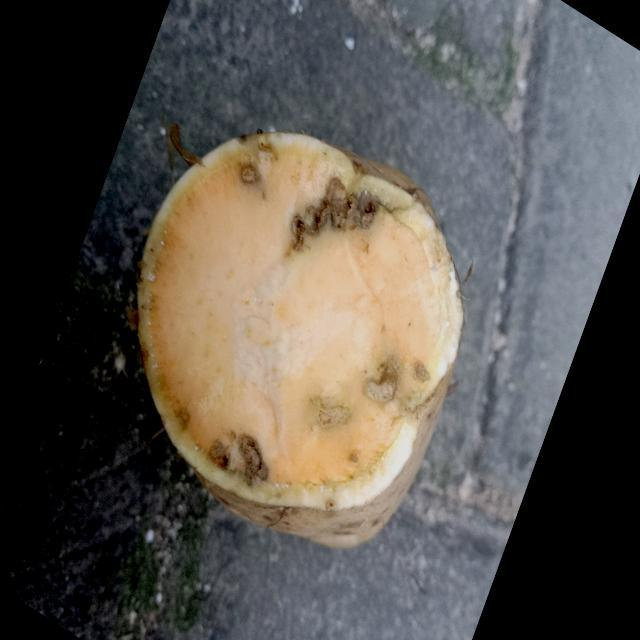Sick Sweet Potato_Tuber Rot: (136, 132, 462, 547)
